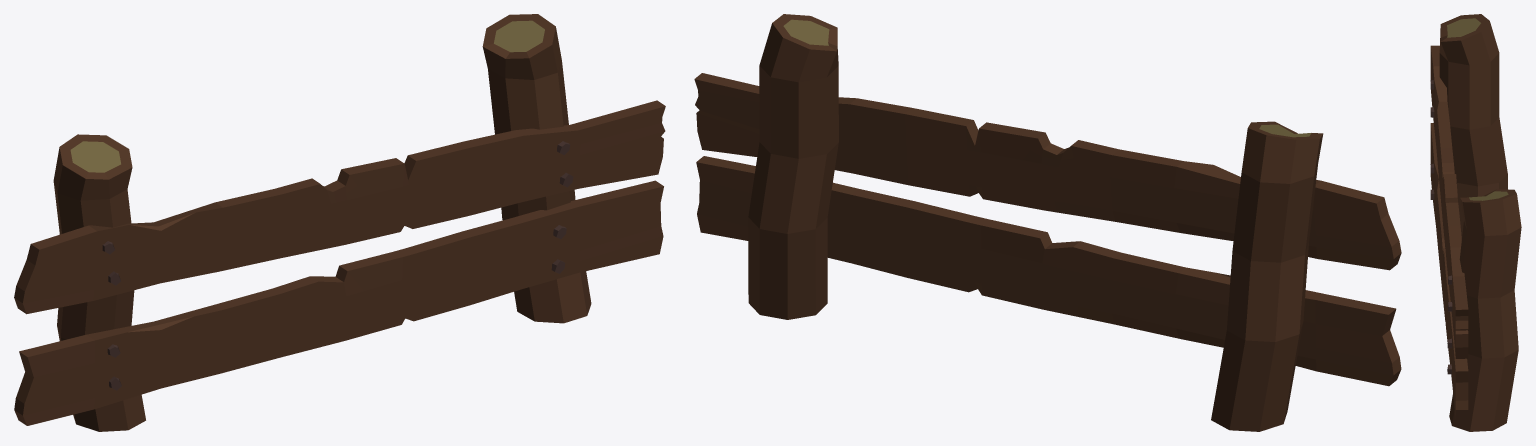
The model's file is Pagar1.fbx.
3 views of the same model, side by side, from view 1: azimuth 30°, elevation 25°; view 2: azimuth 150°, elevation 25°; view 3: azimuth 270°, elevation 25° (orthographic). The views are drawn at different scales.
Visible parts, largest first — view 1: Circle.001; view 2: Circle.001; view 3: Circle.001.
Part boxes in pixels (box(x1,y1,x2,y2)): Circle.001: box(14, 14, 665, 431); Circle.001: box(694, 14, 1401, 431); Circle.001: box(1430, 14, 1521, 431).
Bounding box in the file's own units: 322 × 132 × 49.4.
